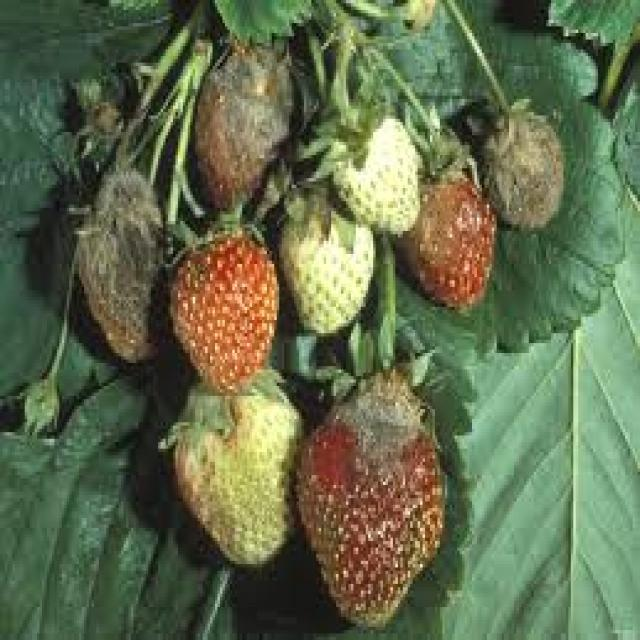Moho gris: (308, 402, 445, 638), (76, 160, 166, 358), (168, 232, 276, 390), (196, 36, 294, 208), (397, 173, 493, 310), (496, 114, 564, 238)
